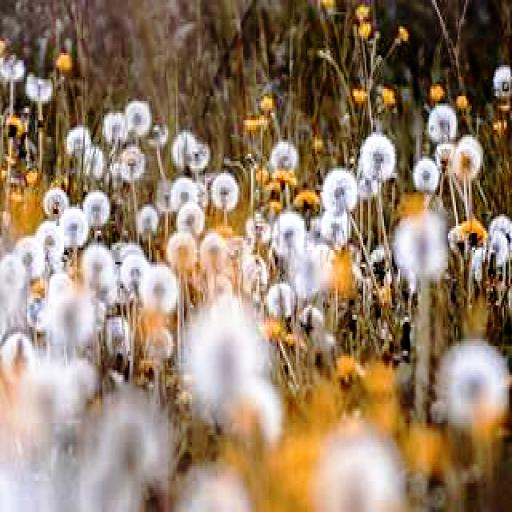dandelion: (440, 336, 512, 438), (141, 264, 182, 318), (355, 137, 395, 178), (322, 168, 356, 214), (269, 214, 304, 255), (13, 236, 43, 281), (427, 101, 458, 142), (59, 206, 88, 248), (172, 132, 198, 171), (212, 173, 238, 212), (170, 175, 196, 214), (36, 221, 62, 260), (268, 142, 298, 175), (83, 190, 109, 226), (413, 156, 438, 192), (178, 204, 204, 238), (120, 144, 142, 183), (125, 101, 150, 135), (43, 188, 69, 218)
